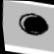correct: (14, 10, 52, 39)
